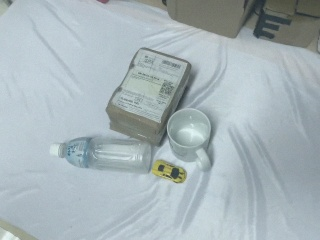bottle: (49, 135, 154, 174)
box: (105, 47, 191, 146), (165, 1, 257, 39), (252, 1, 320, 47)
cup: (166, 107, 215, 171)
toy_car: (152, 159, 187, 183)
